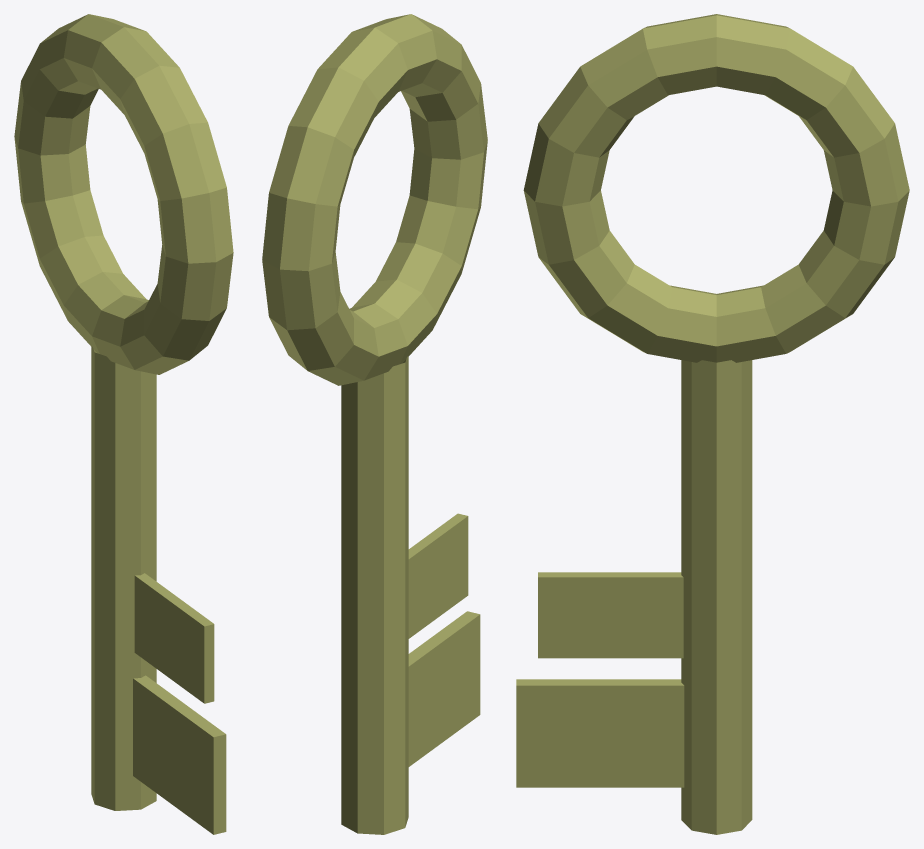
File: key.glb
3 renders of one model, left to right at view 1: azimuth 30°, elevation 25°; view 2: azimuth 150°, elevation 25°; view 3: azimuth 270°, elevation 25°, orthographic. The views are drawn at different scales.
Visible parts, largest first — view 1: key; view 2: key; view 3: key.
Part boxes in pixels (box(x1,y1,x2,y2)): key: box(14, 14, 233, 834); key: box(262, 14, 487, 834); key: box(516, 14, 909, 834).
Bounding box in the file's own units: 0.1778 × 2.04 × 0.9061.
